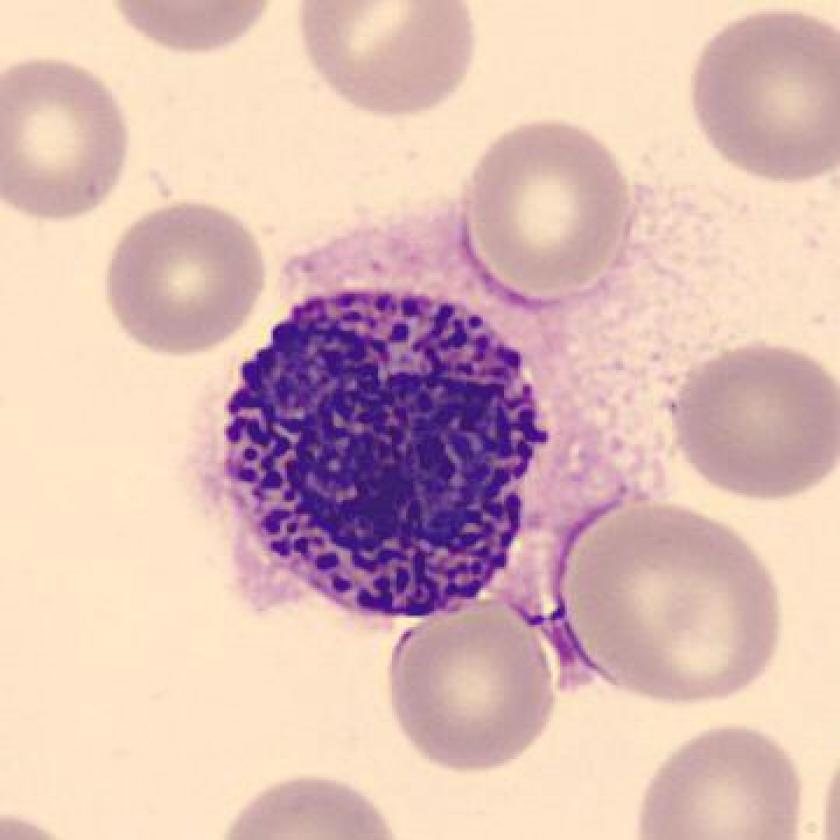basophil: (209, 281, 547, 626)
